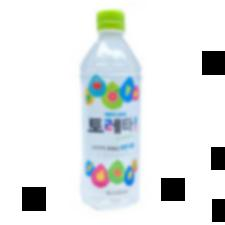toreta: (78, 8, 144, 211)
